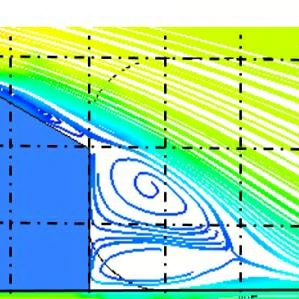vortox: (91, 146, 229, 239), (91, 236, 243, 286)
